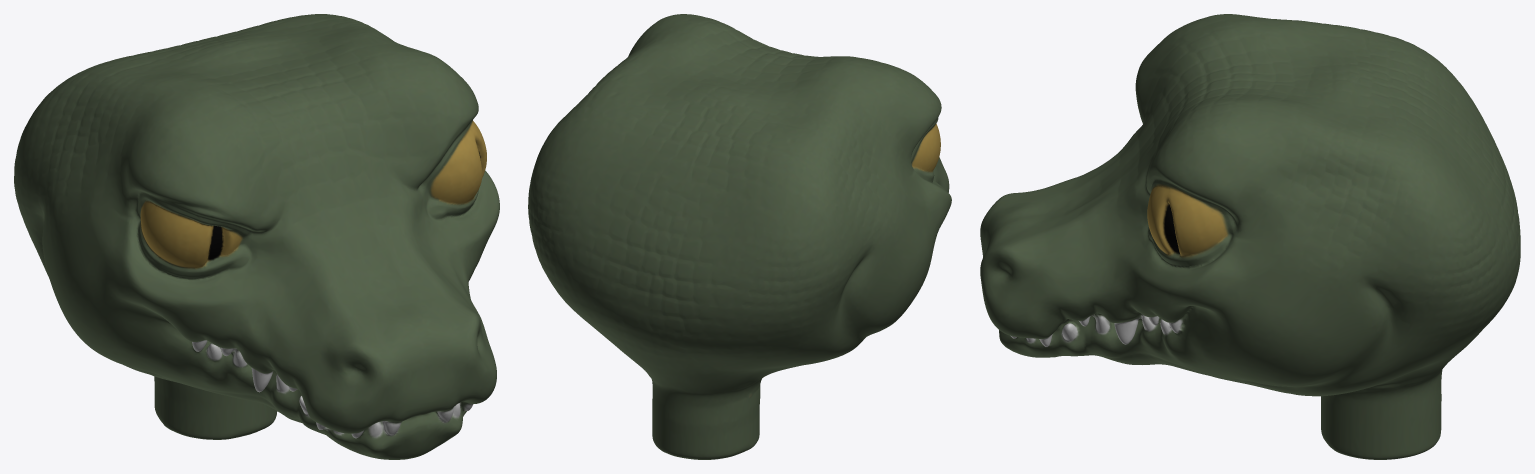
Rendered from Tete_Crocodile.glb.
3 views of the same model, side by side, from view 1: azimuth 30°, elevation 25°; view 2: azimuth 150°, elevation 25°; view 3: azimuth 270°, elevation 25° (orthographic). The views are drawn at different scales.
Parts seen in each view (by area): view 1: Tete_Crocodile; view 2: Tete_Crocodile; view 3: Tete_Crocodile.
Part boxes in pixels (x1,y1,x2,y2): Tete_Crocodile: [14, 14, 499, 459]; Tete_Crocodile: [528, 14, 951, 459]; Tete_Crocodile: [980, 14, 1520, 459].
Size of the model in its own units: 4.18 by 4.09 by 5.34.
